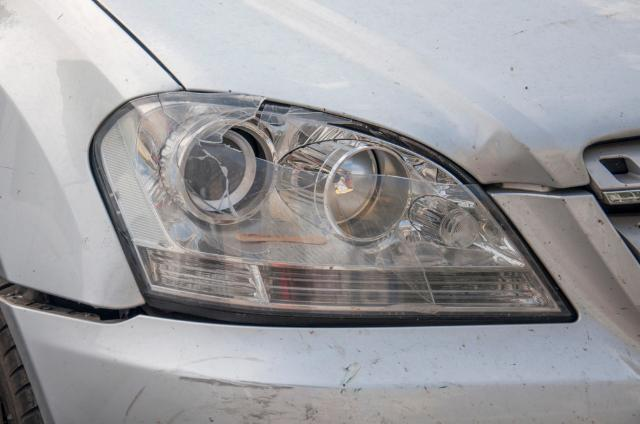lamp broken: (94, 92, 577, 328)
scratch: (113, 350, 349, 424)
